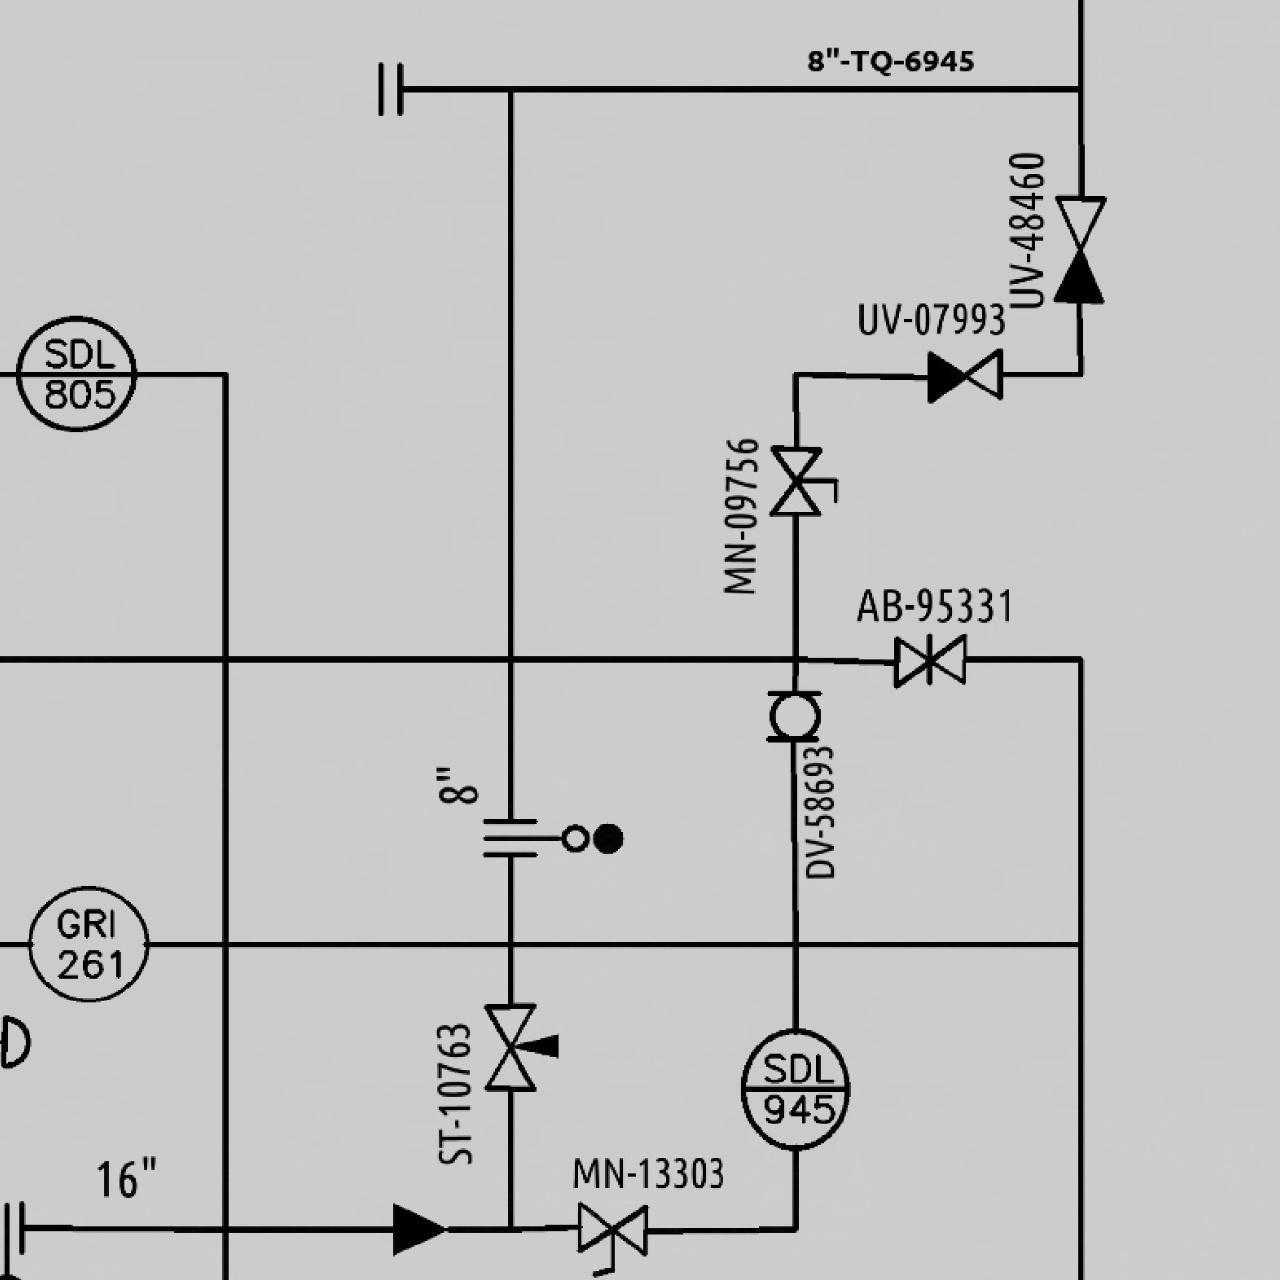Half closed valve: (1048, 191, 1110, 307), (922, 343, 1005, 406)
